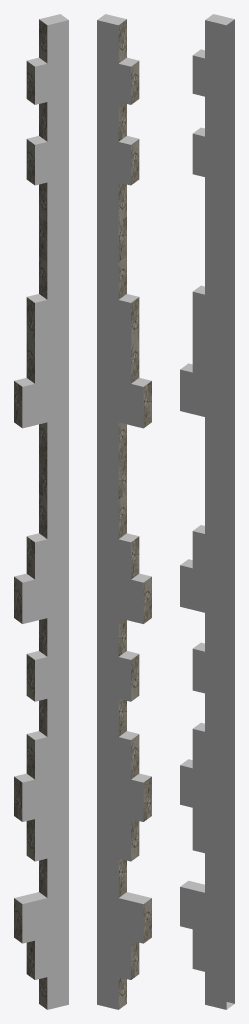
The model's file is Platform_Side_Left.fbx.
3 renders of one model, left to right at view 1: azimuth 30°, elevation 25°; view 2: azimuth 150°, elevation 25°; view 3: azimuth 330°, elevation 25°, orthographic.
Parts seen in each view (by area): view 1: Platform_Side_Left; view 2: Platform_Side_Left; view 3: Platform_Side_Left.
Boxes of the visible parts, left/top/right/bottom form: Platform_Side_Left: left=14, top=14, right=68, bottom=1009; Platform_Side_Left: left=97, top=14, right=151, bottom=1009; Platform_Side_Left: left=180, top=14, right=234, bottom=1009.
Size of the model in its own units: 0.5789 by 11.74 by 0.1803.
